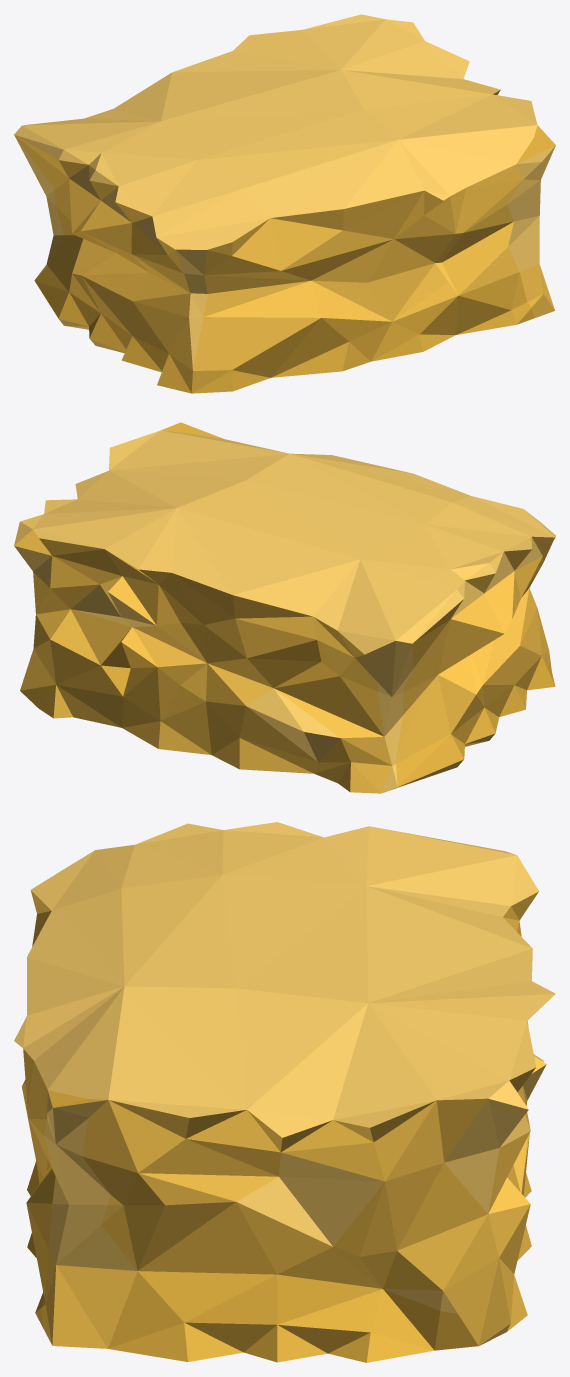
Rendered from EA_M_HayBale_Square_Yellow_01b.fbx.
3 renders of one model, top to bottom at view 1: azimuth 30°, elevation 25°; view 2: azimuth 150°, elevation 25°; view 3: azimuth 270°, elevation 25°, orthographic. The views are drawn at different scales.
Visible parts, largest first — view 1: EA_M_HayBale_Square_Yellow_01b_LOD0; view 2: EA_M_HayBale_Square_Yellow_01b_LOD0; view 3: EA_M_HayBale_Square_Yellow_01b_LOD0.
Boxes of the visible parts, box(x1,y1,x2,y2) form: EA_M_HayBale_Square_Yellow_01b_LOD0: box(14, 14, 555, 393); EA_M_HayBale_Square_Yellow_01b_LOD0: box(14, 422, 555, 793); EA_M_HayBale_Square_Yellow_01b_LOD0: box(14, 822, 555, 1362).
Size of what is drawn, in the model's own units: 1.82 by 0.8093 by 1.39.
